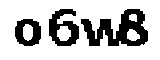6: (45, 4, 81, 50)
8: (123, 7, 155, 53)
o: (13, 17, 44, 49)
w: (80, 15, 126, 49)
